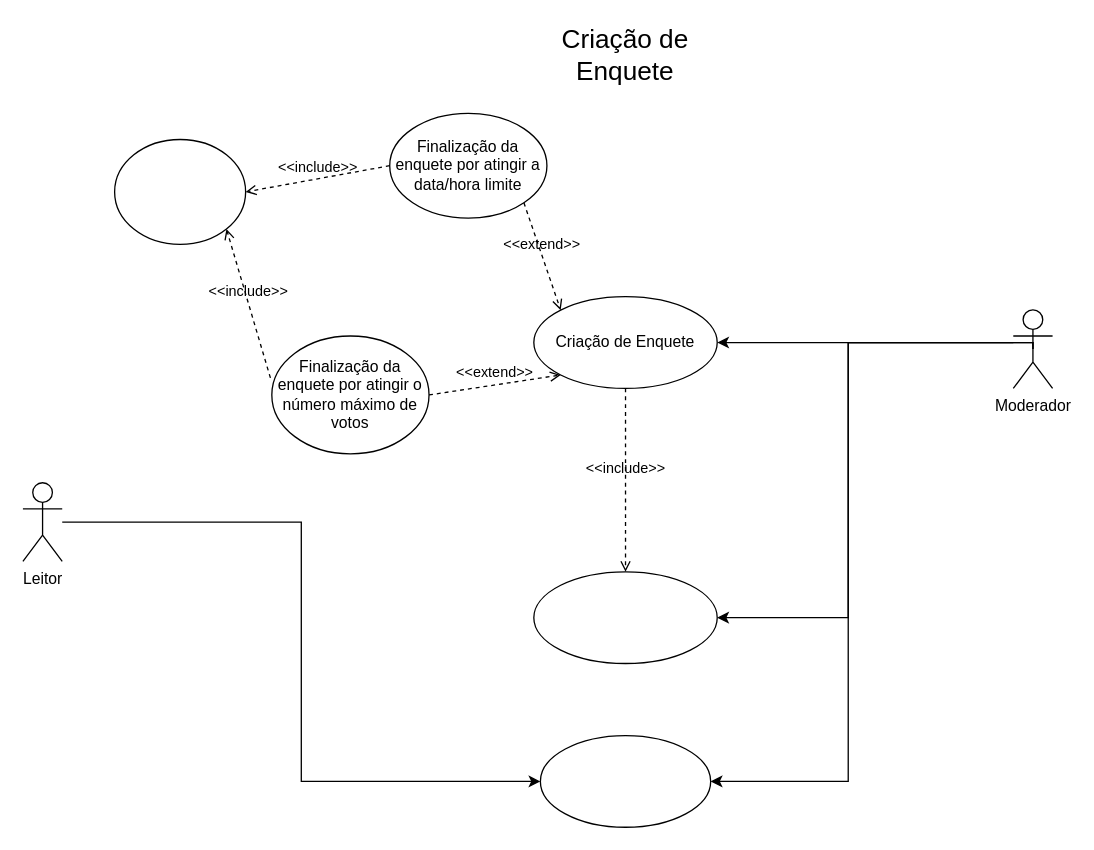
Image size: 1094x850. Some labels were removed from this diagram. The shapes that lost their labels are listed below. From the top down, each one's box as (x1, y1, x2, y2) in pixels, then its label:
(113, 138, 246, 244): Definição da leitura do mês
(533, 571, 717, 664): Adição de itens à enquete
(539, 734, 711, 827): Votar num item (somente um) da enquete
